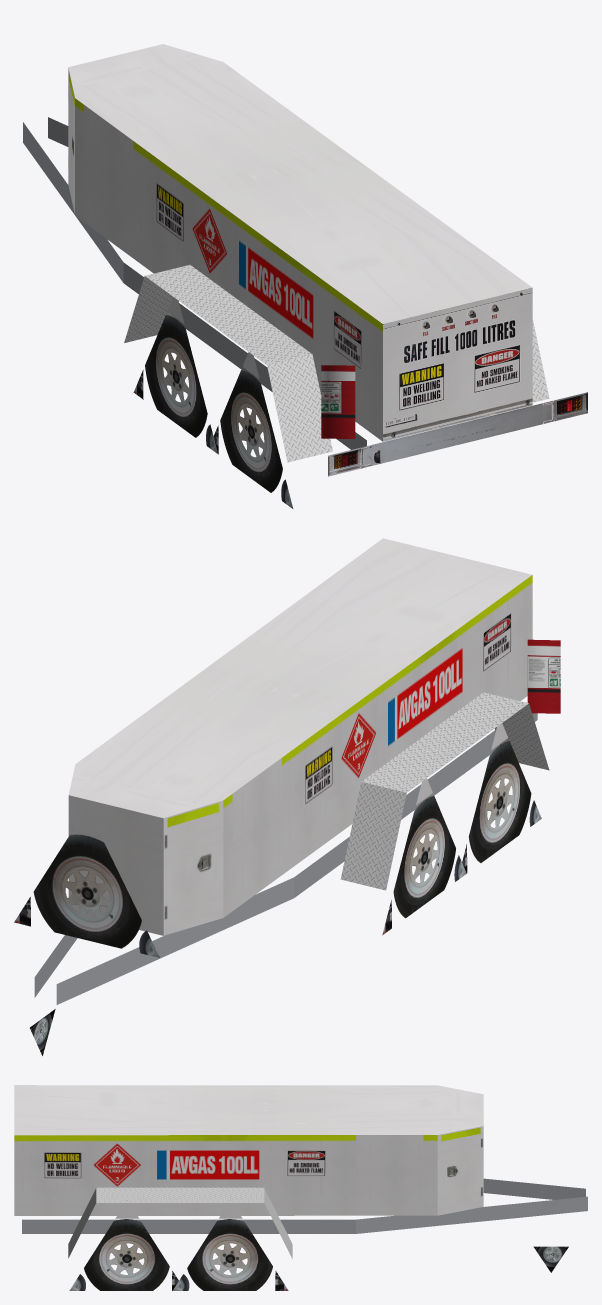
The model's file is fuel-trailer-5m-cbj_LOD05.gltf.
The picture shows the model from 3 angles, top to bottom: view 1: azimuth 30°, elevation 25°; view 2: azimuth 150°, elevation 25°; view 3: azimuth 270°, elevation 25°; orthographic projection. The views are drawn at different scales.
Visible parts, largest first — view 1: fuel-trailer1-05; view 2: fuel-trailer1-05; view 3: fuel-trailer1-05.
Boxes of the visible parts, x1=… form: fuel-trailer1-05: x1=23, y1=44, x2=587, y2=508; fuel-trailer1-05: x1=14, y1=538, x2=560, y2=1055; fuel-trailer1-05: x1=14, y1=1085, x2=587, y2=1290.
Size of the model in its own units: 1.82 by 1.6 by 5.04.
